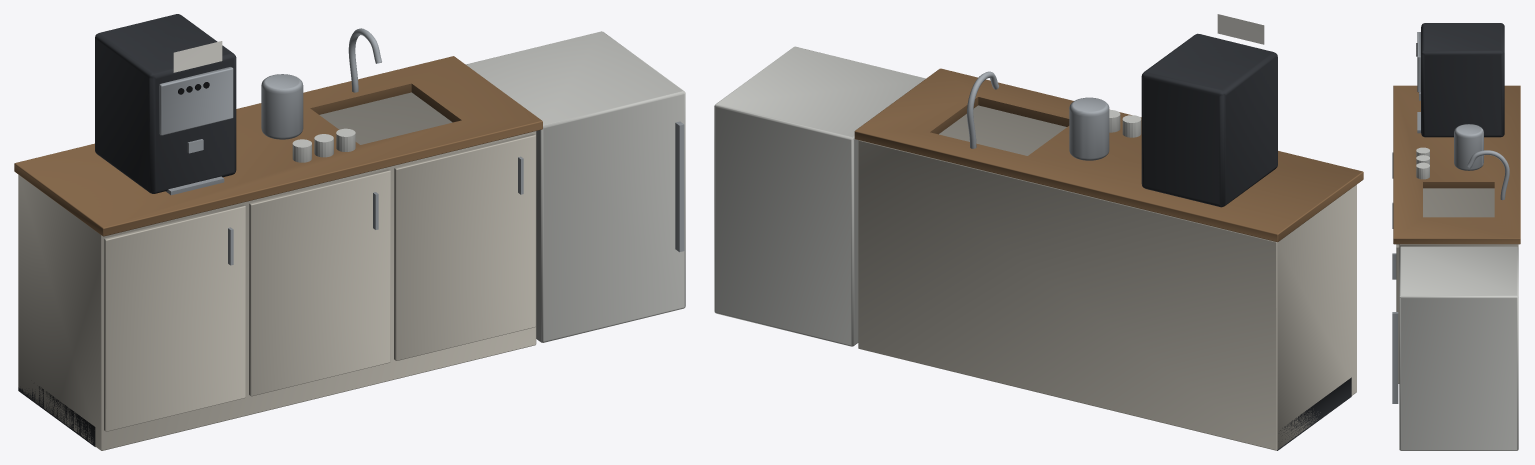
The model's file is kitchen.glb.
3 renders of one model, left to right at view 1: azimuth 30°, elevation 25°; view 2: azimuth 150°, elevation 25°; view 3: azimuth 270°, elevation 25°, orthographic. The views are drawn at different scales.
Visible parts, largest first — view 1: AngoloCaffe, Frigo, CartelloGuasta; view 2: AngoloCaffe, Frigo, CartelloGuasta; view 3: AngoloCaffe, Frigo.
Part boxes in pixels (left/top/right/bottom): AngoloCaffe: left=14, top=14, right=542, bottom=450; Frigo: left=466, top=31, right=685, bottom=342; CartelloGuasta: left=173, top=41, right=222, bottom=72; AngoloCaffe: left=854, top=33, right=1363, bottom=450; Frigo: left=714, top=46, right=925, bottom=346; CartelloGuasta: left=1217, top=14, right=1264, bottom=44; AngoloCaffe: left=1392, top=23, right=1520, bottom=383; Frigo: left=1392, top=246, right=1518, bottom=450.
Size of the model in its own units: 2.43 by 1.46 by 0.645.
